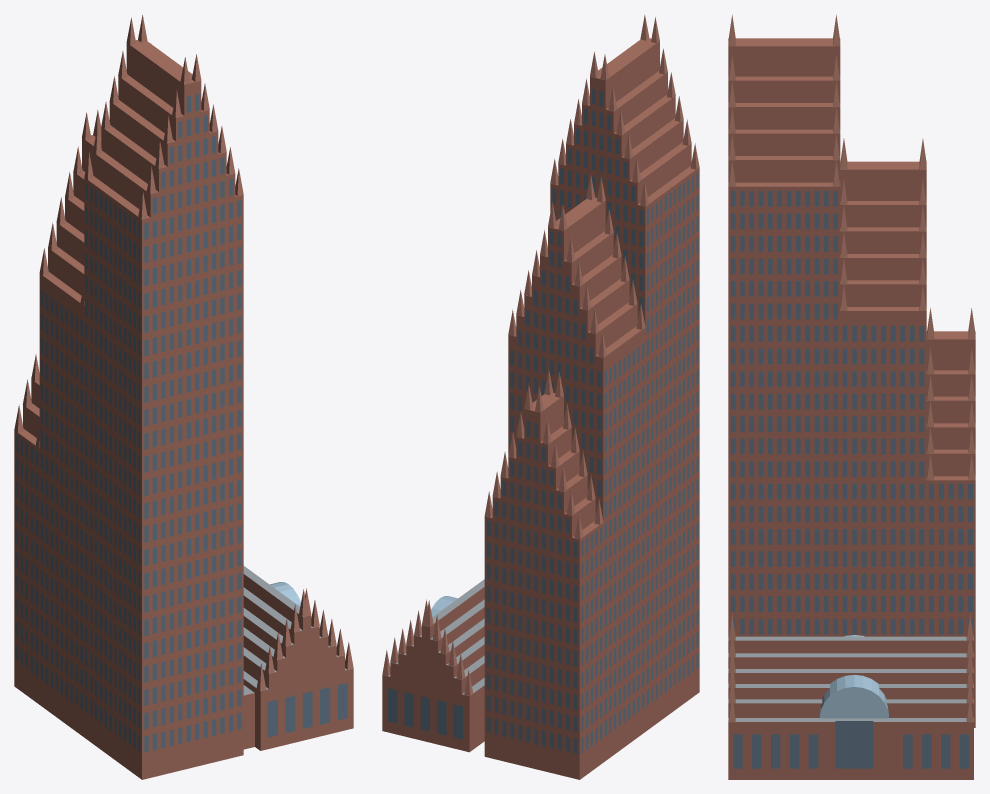
The model's file is hou-tc-energy-center.glb.
The picture shows the model from 3 angles, left to right: view 1: azimuth 30°, elevation 25°; view 2: azimuth 150°, elevation 25°; view 3: azimuth 270°, elevation 25°; orthographic projection. The views are drawn at different scales.
Parts seen in each view (by area): view 1: TC Energy Center; view 2: TC Energy Center; view 3: TC Energy Center.
Boxes of the visible parts, bbox=[...] form: TC Energy Center: bbox=[14, 15, 353, 779]; TC Energy Center: bbox=[382, 14, 699, 779]; TC Energy Center: bbox=[728, 15, 975, 779].
Bounding box in the file's own units: 75.2 × 241 × 78.6.
